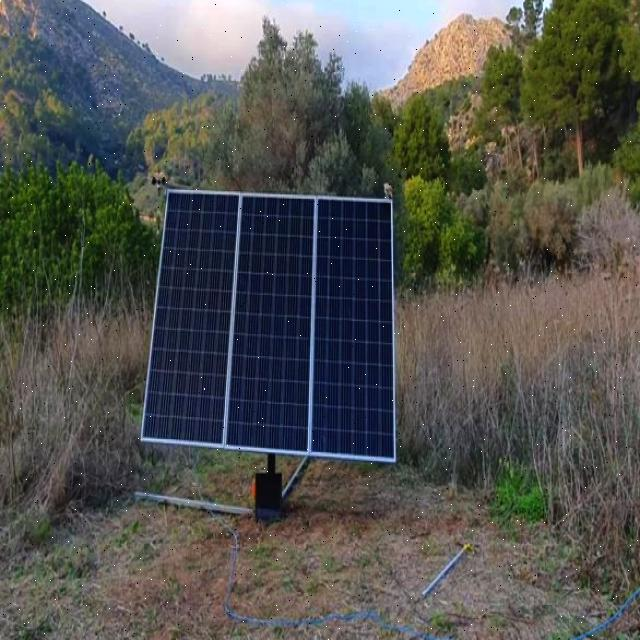Normal Solar Panel: (141, 191, 395, 462)
